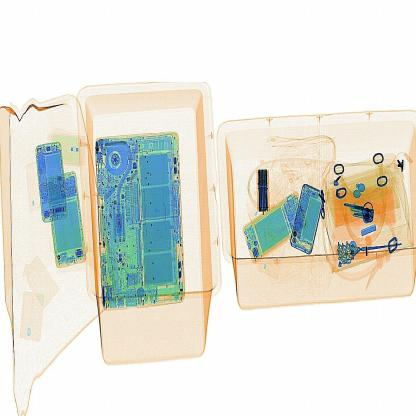scissors: (252, 157, 280, 220)
